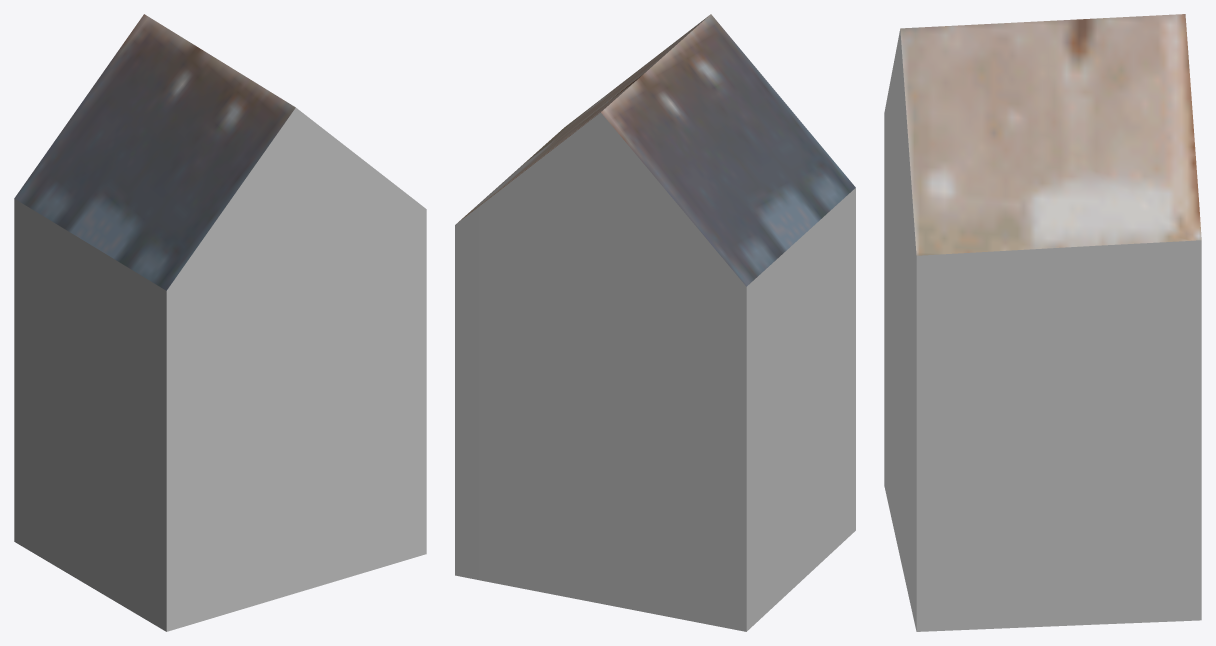
The model's file is DEBW_0010007Tx8N.gltf.
3 renders of one model, left to right at view 1: azimuth 30°, elevation 25°; view 2: azimuth 150°, elevation 25°; view 3: azimuth 270°, elevation 25°, orthographic. The views are drawn at different scales.
Parts seen in each view (by area): view 1: Z_UP; view 2: Z_UP; view 3: Z_UP.
Part boxes in pixels (x1,y1,x2,y2): Z_UP: (14,14,426,631); Z_UP: (455,14,855,631); Z_UP: (884,14,1201,631).
Bounding box in the file's own units: 12.4 × 19.52 × 10.53.
2 materials, 1 textured.
